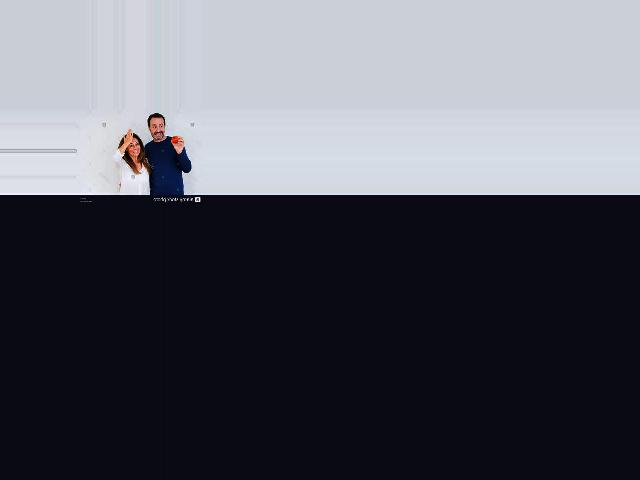tomato: (170, 135, 177, 142)
